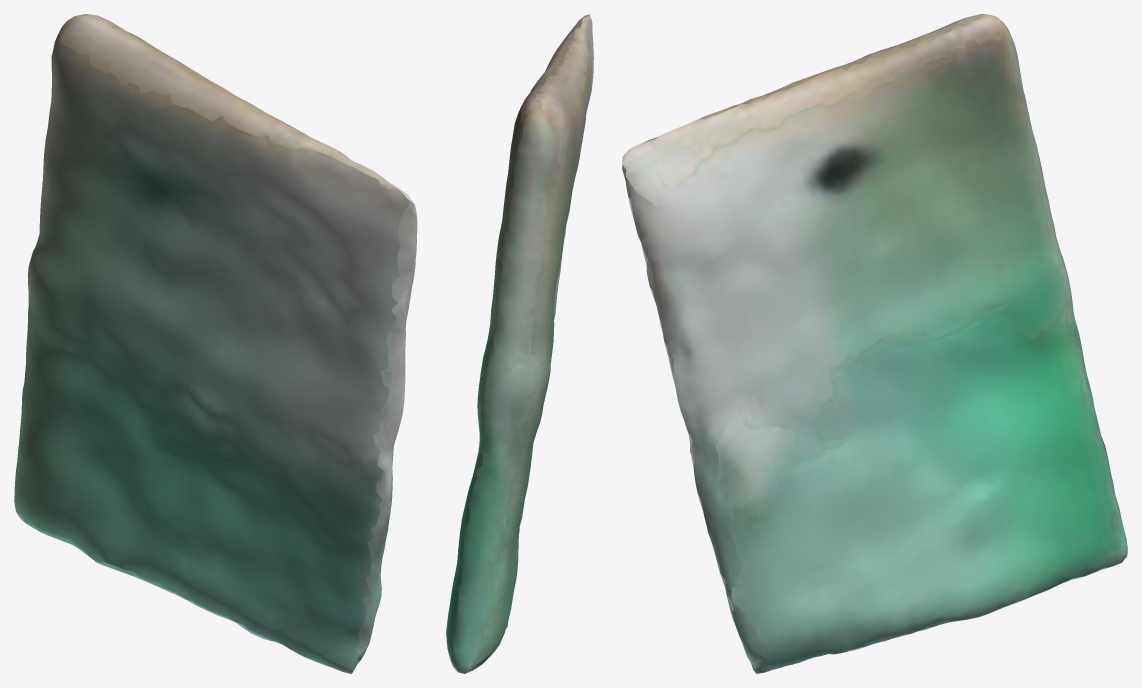
The model's file is 14_mirror.glb.
The picture shows the model from 3 angles, left to right: view 1: azimuth 30°, elevation 25°; view 2: azimuth 150°, elevation 25°; view 3: azimuth 270°, elevation 25°; orthographic projection. The views are drawn at different scales.
Visible parts, largest first — view 1: 14_mirror; view 2: 14_mirror; view 3: 14_mirror.
Boxes of the visible parts, <box> form: 14_mirror: <box>14,14,417,673</box>; 14_mirror: <box>446,14,593,673</box>; 14_mirror: <box>622,14,1127,673</box>.
Size of the model in its own units: 0.3593 by 1.06 by 0.8275.
1 material, 1 textured.
